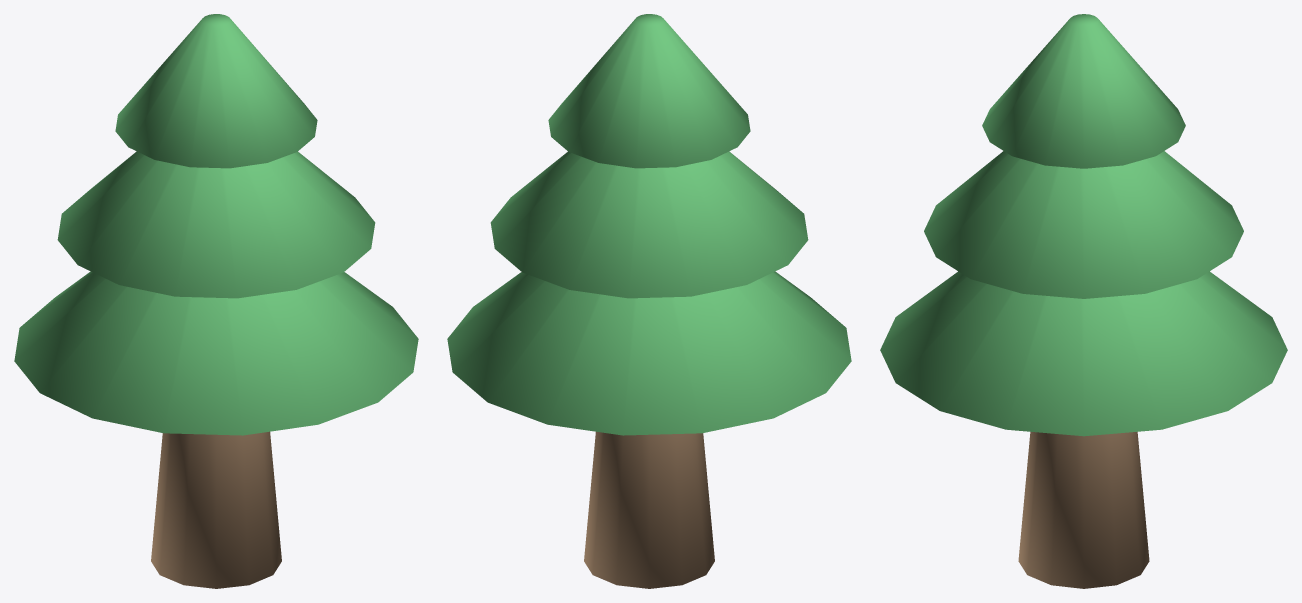
File: 66b91ee1-8650-43c2-a1f5-d6441dfb542e.glb
3 views of the same model, side by side, from view 1: azimuth 30°, elevation 25°; view 2: azimuth 150°, elevation 25°; view 3: azimuth 270°, elevation 25° (orthographic).
Parts seen in each view (by area): view 1: Generated3DMesh; view 2: Generated3DMesh; view 3: Generated3DMesh.
Part boxes in pixels (left/top/right/bottom): Generated3DMesh: left=14, top=14, right=418, bottom=588; Generated3DMesh: left=447, top=14, right=851, bottom=588; Generated3DMesh: left=880, top=14, right=1287, bottom=588.
Bounding box in the file's own units: 2.8 × 4.1 × 2.8.
